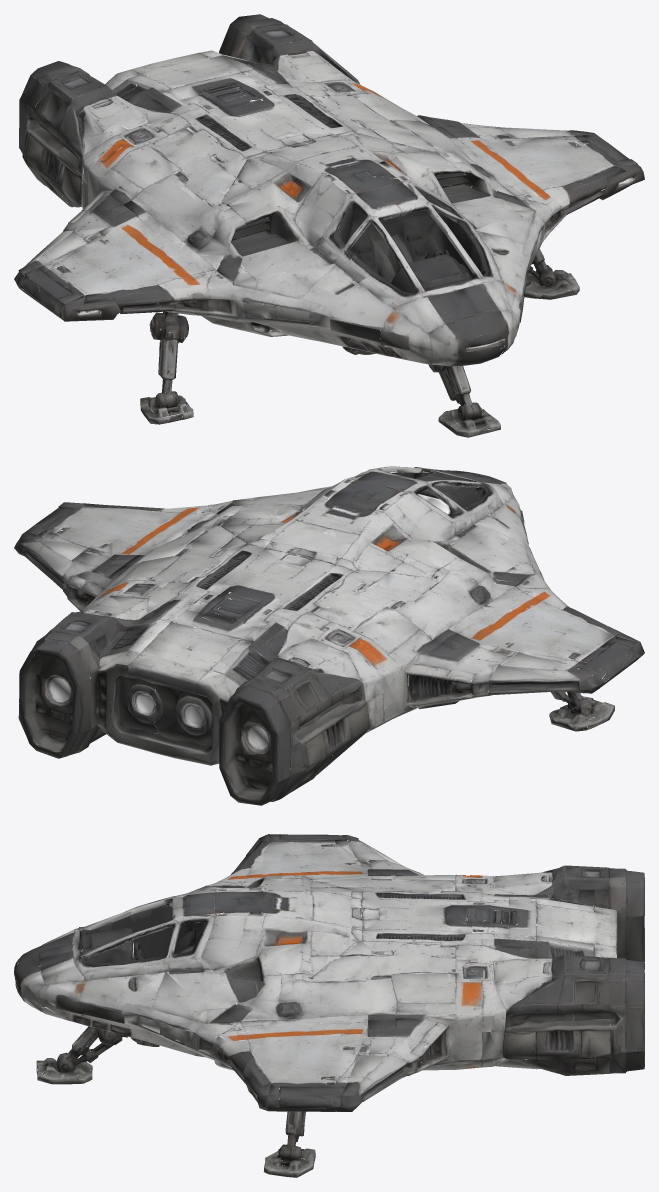
Rendered from miller-lander.glb.
3 renders of one model, top to bottom at view 1: azimuth 30°, elevation 25°; view 2: azimuth 150°, elevation 25°; view 3: azimuth 270°, elevation 25°, orthographic. The views are drawn at different scales.
Visible parts, largest first — view 1: miller-lander; view 2: miller-lander; view 3: miller-lander.
Boxes of the visible parts, x1,y1,x2,y2 form: miller-lander: (14,14,644,437); miller-lander: (14,466,644,805); miller-lander: (14,834,644,1177).
Size of the model in its own units: 11.96 by 3.57 by 12.
1 material, 1 textured.
